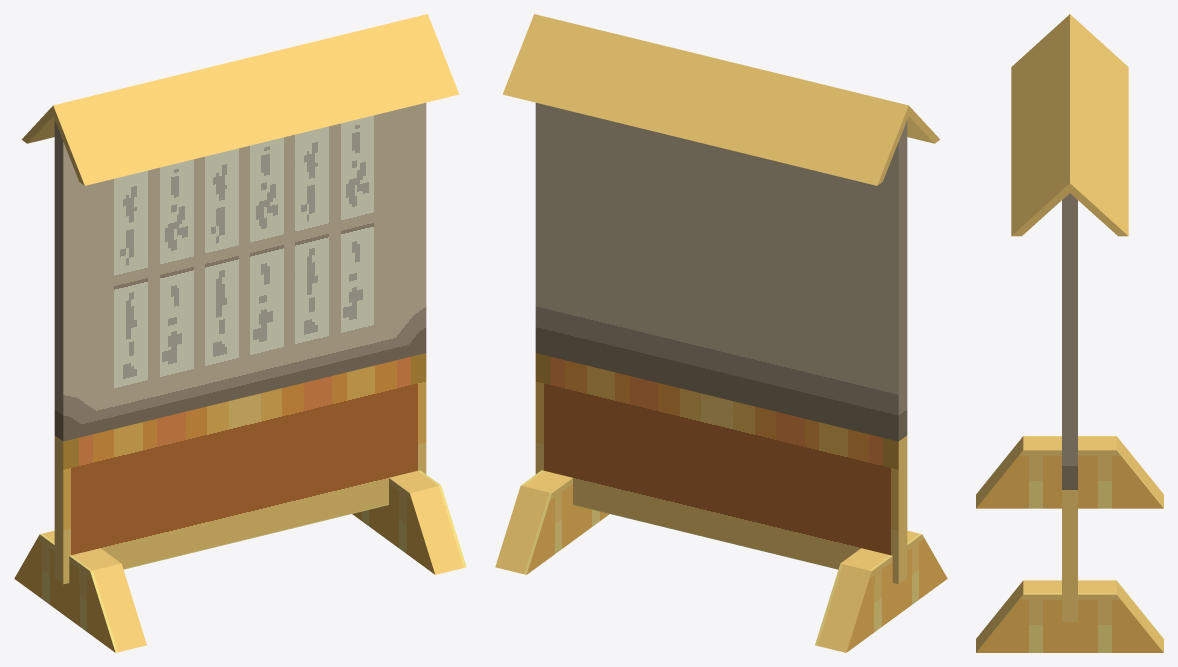
3 renders of one model, left to right at view 1: azimuth 30°, elevation 25°; view 2: azimuth 150°, elevation 25°; view 3: azimuth 270°, elevation 25°, orthographic. The views are drawn at different scales.
Parts seen in each view (by area): view 1: 3803kg_sh1_26; view 2: 3803kg_sh1_26; view 3: 3803kg_sh1_26.
Boxes of the visible parts, x1,y1,x2,y2 form: 3803kg_sh1_26: [14, 14, 466, 652]; 3803kg_sh1_26: [495, 14, 947, 652]; 3803kg_sh1_26: [976, 14, 1163, 652].
Bounding box in the file's own units: 1.33 × 1.75 × 0.626.
2 materials, 2 textured.
